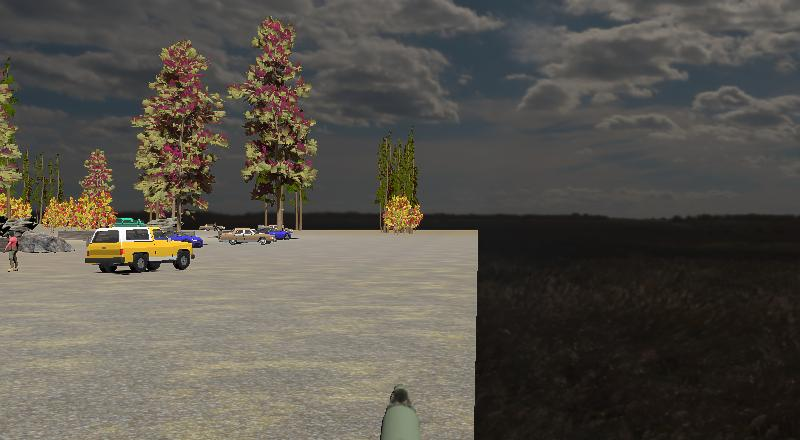Human: (4, 230, 19, 273)
car: (85, 226, 193, 273), (218, 227, 274, 246), (164, 227, 207, 250), (167, 229, 205, 250), (256, 224, 292, 242)
